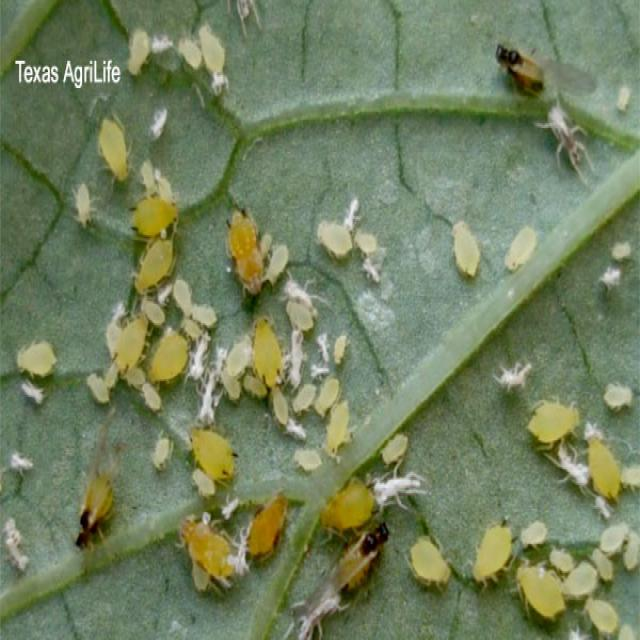Aphid: (534, 102, 596, 198), (370, 458, 429, 516), (494, 38, 549, 97), (491, 354, 537, 393)
